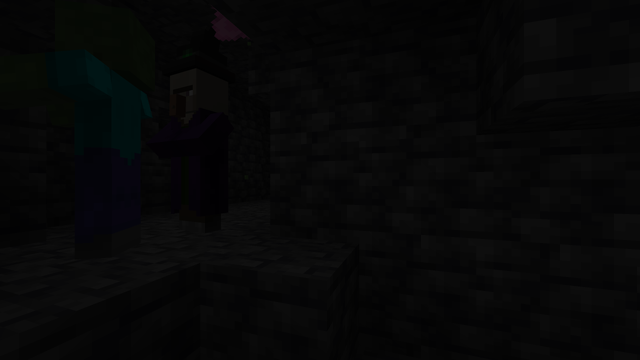sorcieres: (179, 58, 235, 235)
zombies: (46, 2, 167, 263)
